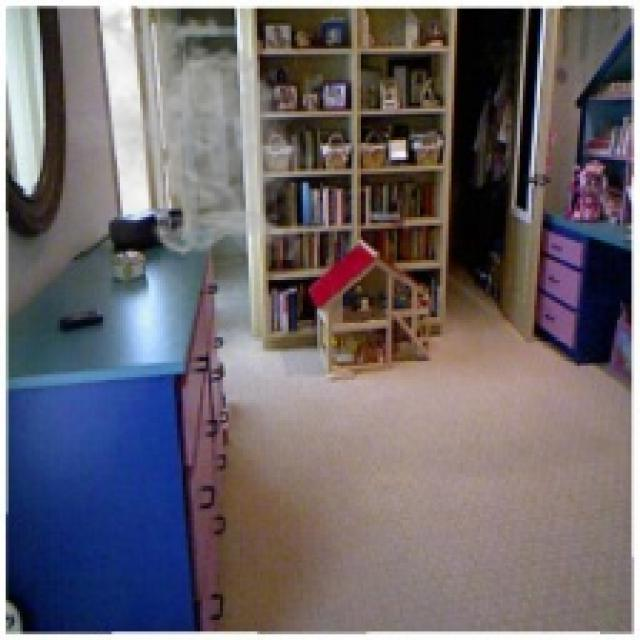Smoke: (68, 0, 314, 260)
